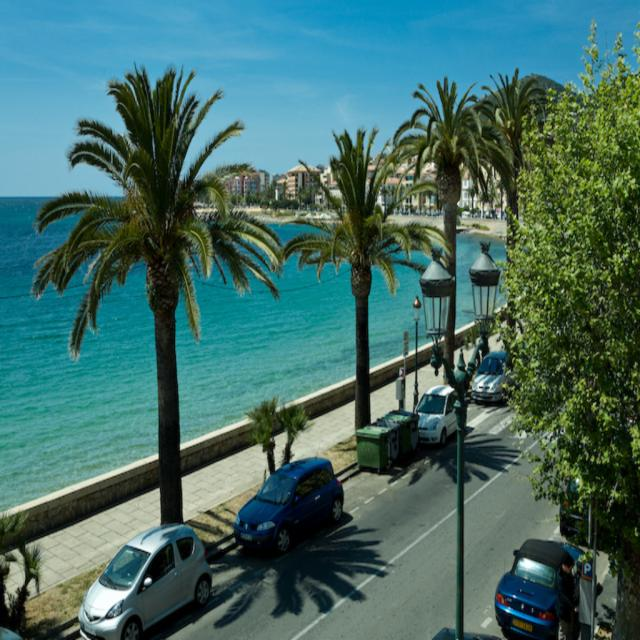car: (232, 445, 344, 552)
